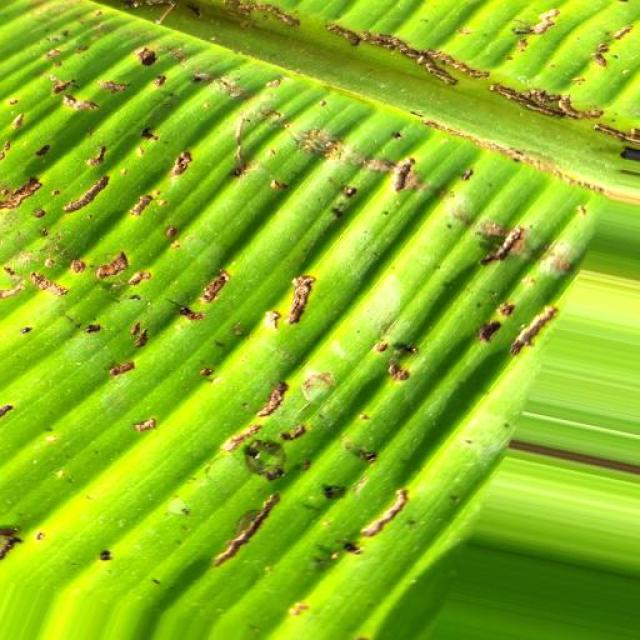Black_rot: (4, 2, 640, 568)
